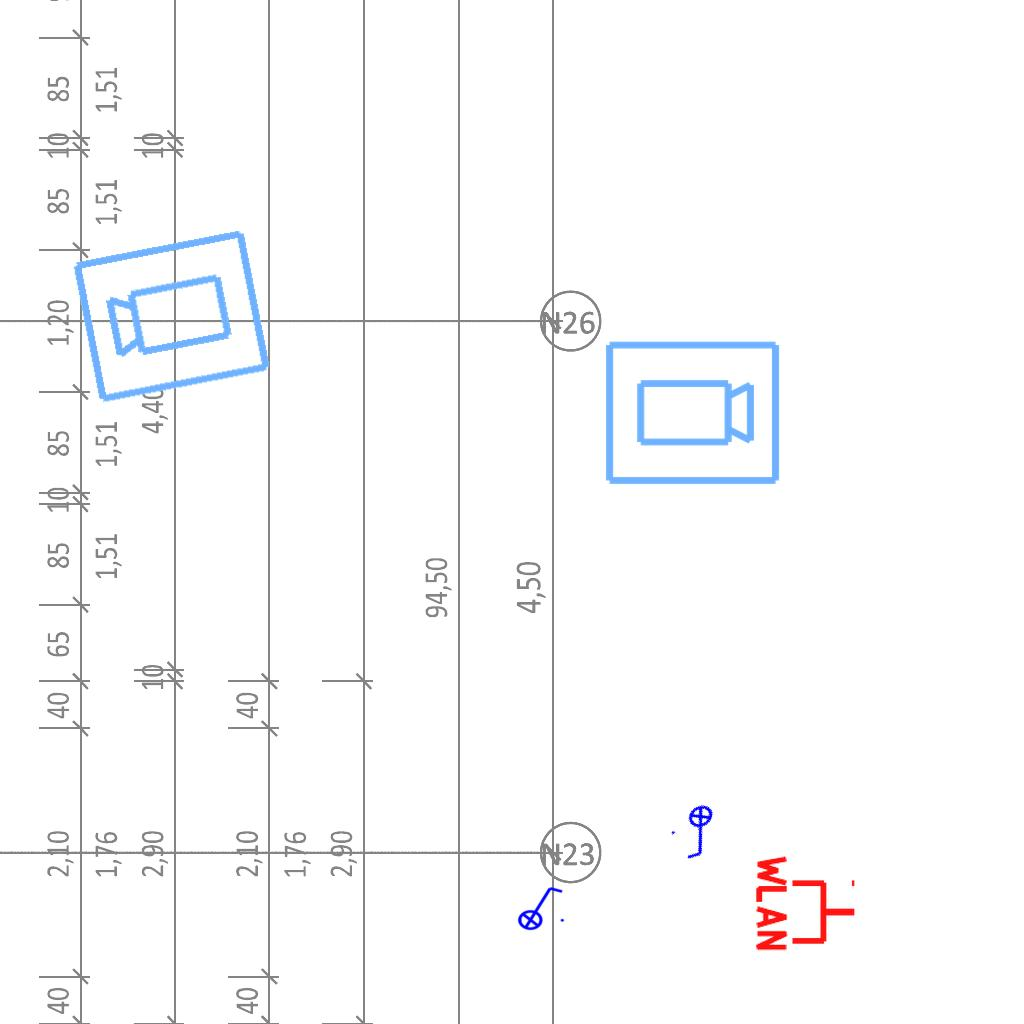Ausschalter_beleuchtet: (663, 797, 737, 867), (511, 883, 567, 931)
KFO_Kamera_mit_Festobjektiv: (67, 222, 277, 408), (601, 337, 783, 491)
WLAN: (754, 851, 859, 955)
